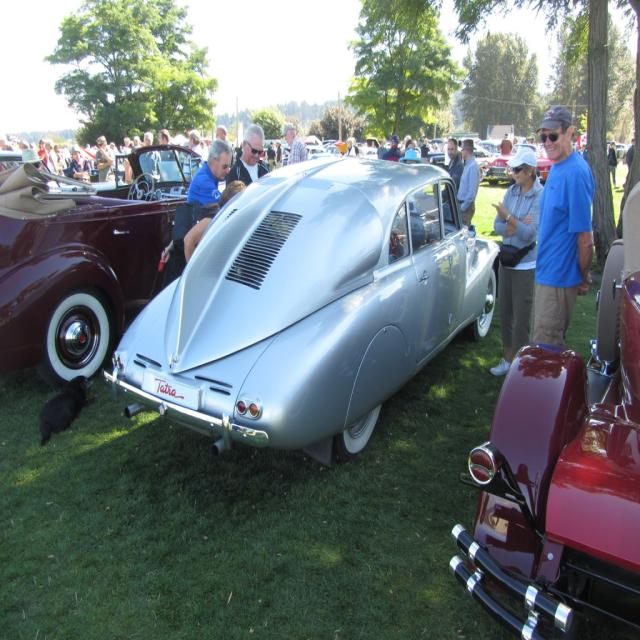car: (104, 152, 491, 473)
